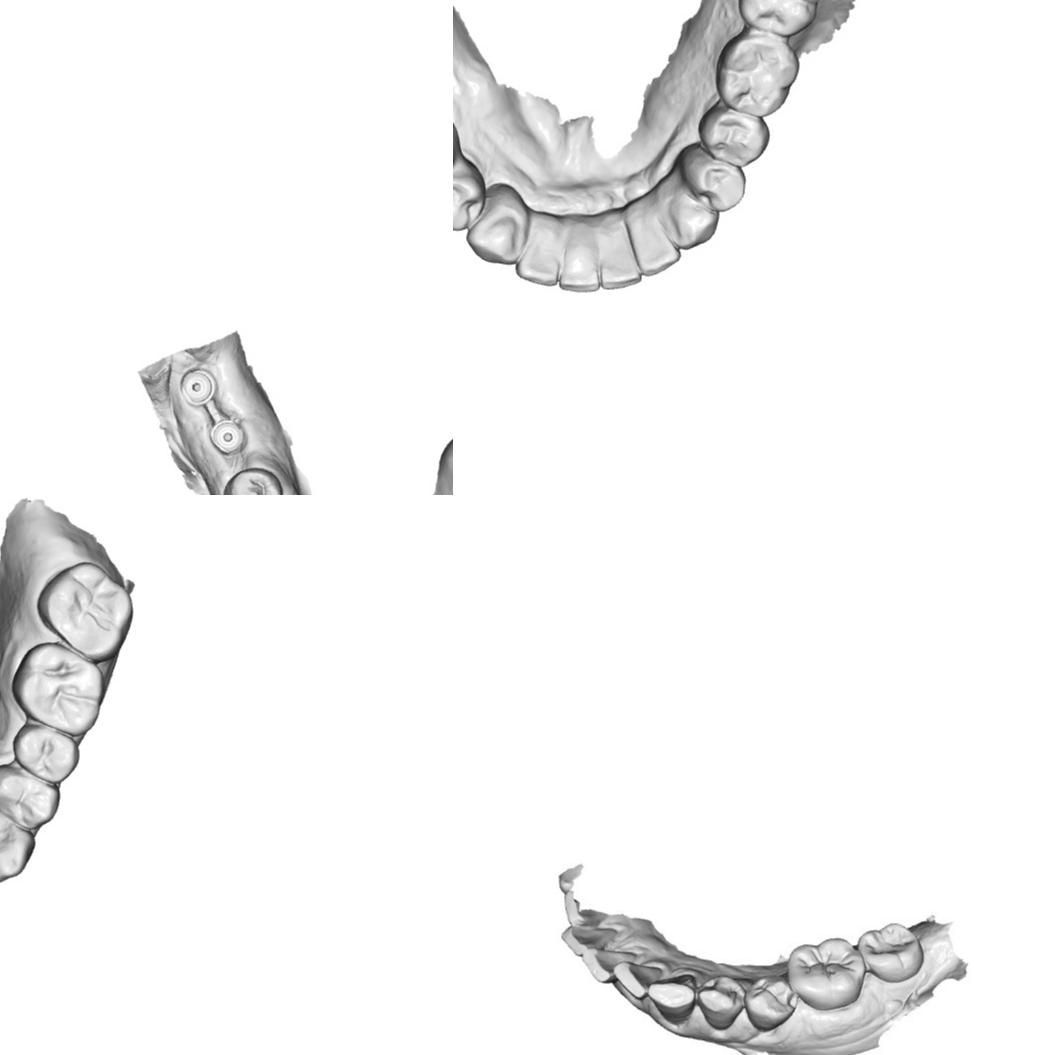canine: (466, 191, 530, 266), (660, 185, 720, 253), (644, 974, 695, 1030), (0, 810, 36, 885)
implant: (177, 366, 218, 407), (207, 416, 247, 456)
incisor: (595, 221, 644, 291), (633, 214, 685, 278), (512, 219, 560, 287), (557, 228, 605, 295), (615, 957, 663, 999), (586, 945, 641, 980), (562, 920, 618, 953)
molar: (35, 560, 134, 664), (11, 641, 102, 737), (715, 32, 800, 120), (793, 932, 866, 1005), (860, 918, 926, 982), (736, 0, 827, 38)
premolar: (698, 105, 772, 169), (7, 722, 80, 786), (681, 152, 746, 214), (0, 762, 60, 829), (743, 975, 794, 1032), (701, 974, 742, 1028), (453, 165, 485, 232), (220, 466, 283, 495)
